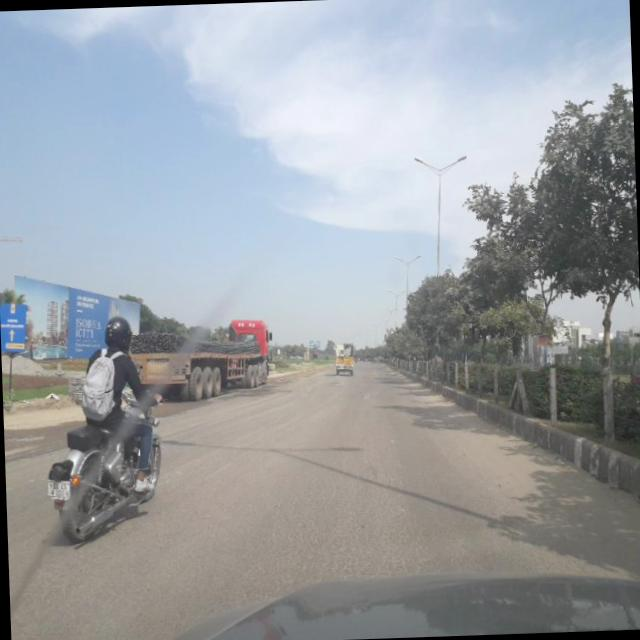crack: (171, 401, 508, 578)
